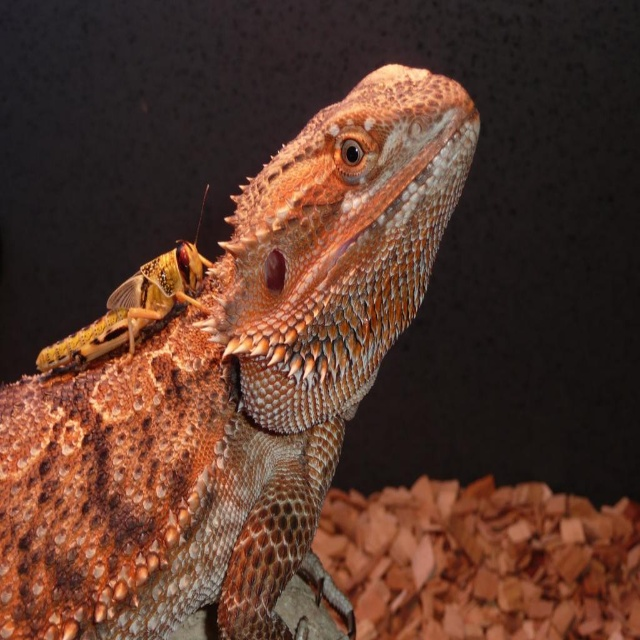Lizard: (16, 68, 472, 640)
